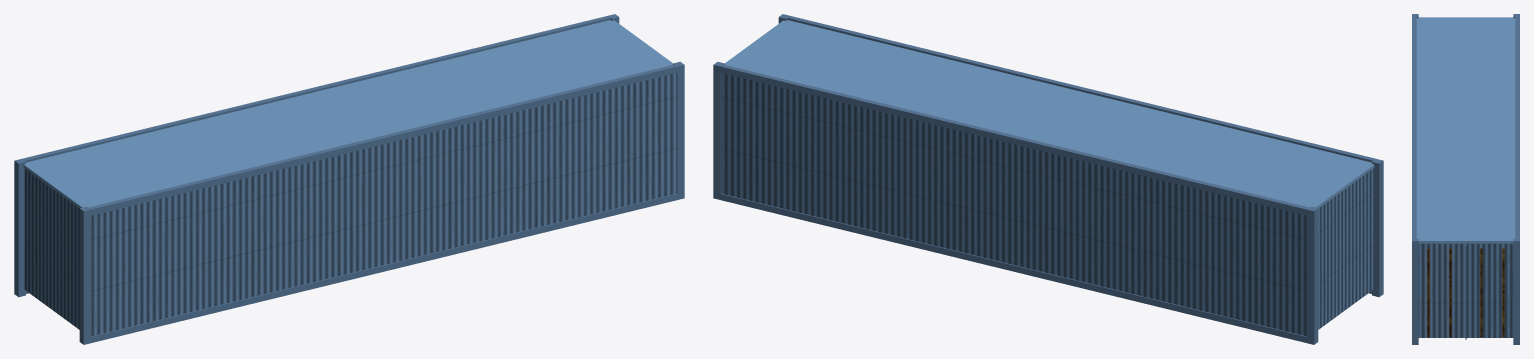
The model's file is iso-40-blue.loc-v1.lod1.glb.
The picture shows the model from 3 angles, left to right: view 1: azimuth 30°, elevation 25°; view 2: azimuth 150°, elevation 25°; view 3: azimuth 270°, elevation 25°; orthographic projection. The views are drawn at different scales.
Visible parts, largest first — view 1: iso-40-blue; view 2: iso-40-blue; view 3: iso-40-blue.
Part boxes in pixels (<box>): iso-40-blue: <box>14,14,684,344</box>; iso-40-blue: <box>713,14,1383,344</box>; iso-40-blue: <box>1412,14,1519,344</box>.
Size of the model in its own units: 12.2 by 2.59 by 2.44.
3 materials, 2 textured.
